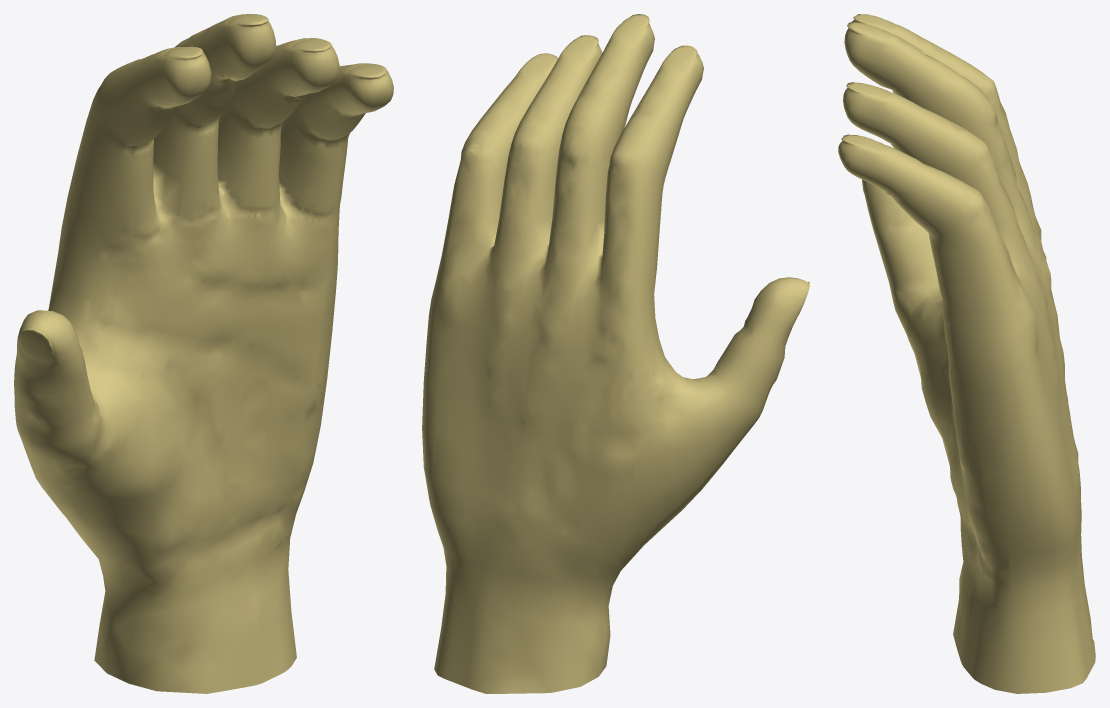
Rendered from Handen-transformed.glb.
3 renders of one model, left to right at view 1: azimuth 30°, elevation 25°; view 2: azimuth 150°, elevation 25°; view 3: azimuth 270°, elevation 25°, orthographic. The views are drawn at different scales.
Parts seen in each view (by area): view 1: Cube; view 2: Cube; view 3: Cube.
Boxes of the visible parts, x1=… form: Cube: x1=14, y1=14, x2=393, y2=693; Cube: x1=422, y1=14, x2=809, y2=693; Cube: x1=838, y1=14, x2=1095, y2=693.
Size of the model in its own units: 3.08 by 5.62 by 2.14.
